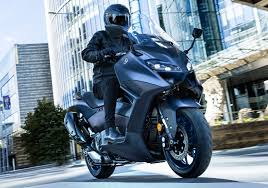motorcycle: (66, 21, 217, 179)
